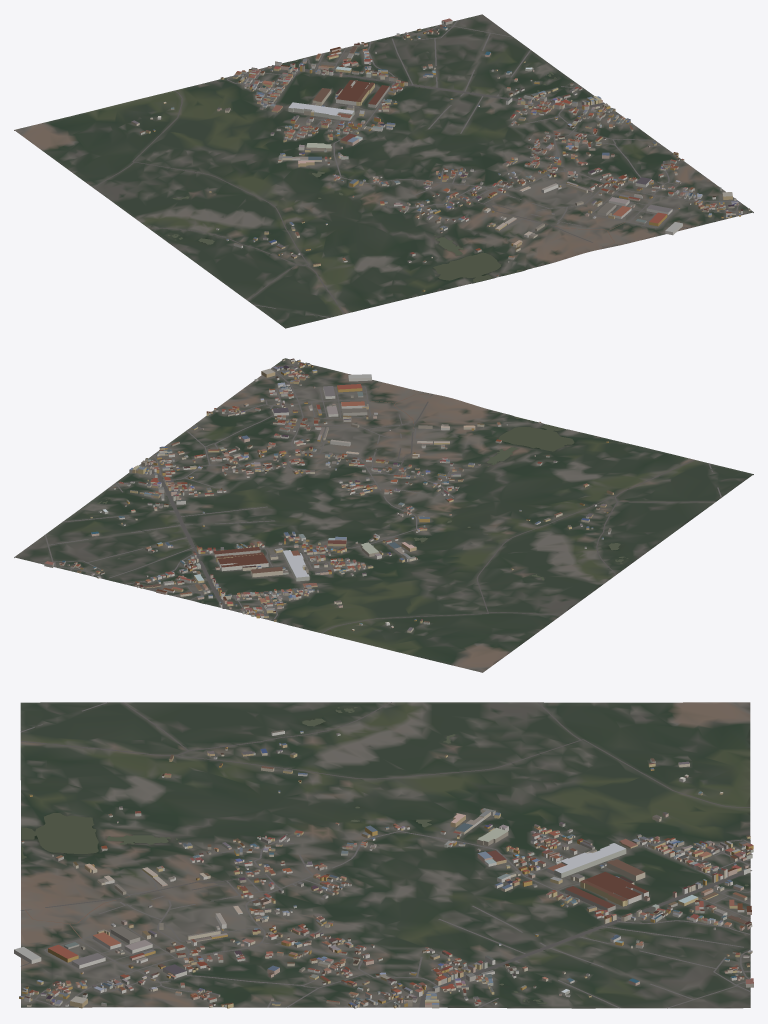
3 renders of one model, top to bottom at view 1: azimuth 30°, elevation 25°; view 2: azimuth 150°, elevation 25°; view 3: azimuth 270°, elevation 25°, orthographic. The views are drawn at different scales.
Parts seen in each view (by area): view 1: ground, buildings, roads, water; view 2: ground, buildings, roads, water; view 3: ground, buildings, roads, water.
Part boxes in pixels (<box>): ground: <box>14,14,753,328</box>; buildings: <box>131,18,750,291</box>; roads: <box>93,20,741,317</box>; water: <box>168,60,556,282</box>; ground: <box>14,358,753,672</box>; buildings: <box>44,358,613,632</box>; roads: <box>38,362,721,633</box>; water: <box>97,416,628,602</box>; ground: <box>20,702,750,1008</box>; buildings: <box>14,730,753,1008</box>; roads: <box>20,702,751,1008</box>; water: <box>21,707,748,1003</box>.
Bounding box in the file's own units: 1404 × 26.35 × 1422.
